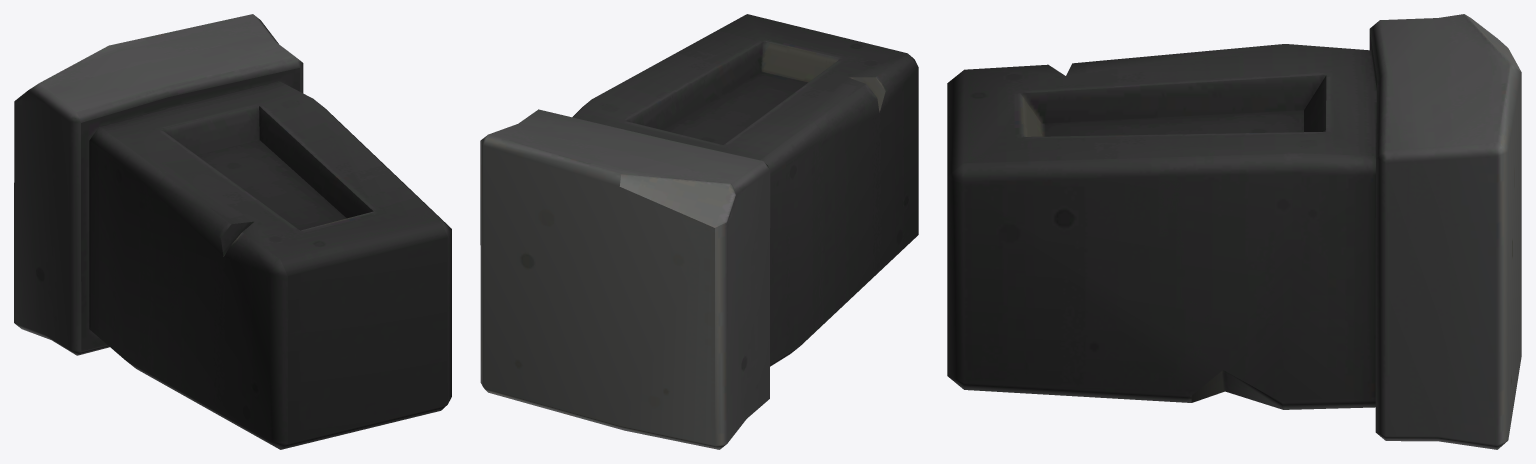
The model's file is SpookyPillarB.fbx.
3 renders of one model, left to right at view 1: azimuth 30°, elevation 25°; view 2: azimuth 150°, elevation 25°; view 3: azimuth 270°, elevation 25°, orthographic. The views are drawn at different scales.
Visible parts, largest first — view 1: SpookyPillarB; view 2: SpookyPillarB; view 3: SpookyPillarB.
Boxes of the visible parts, left/top/right/bottom form: SpookyPillarB: left=14, top=14, right=451, bottom=449; SpookyPillarB: left=480, top=14, right=918, bottom=449; SpookyPillarB: left=947, top=14, right=1521, bottom=449.
Size of the model in its own units: 57.54 by 57.64 by 97.2.
